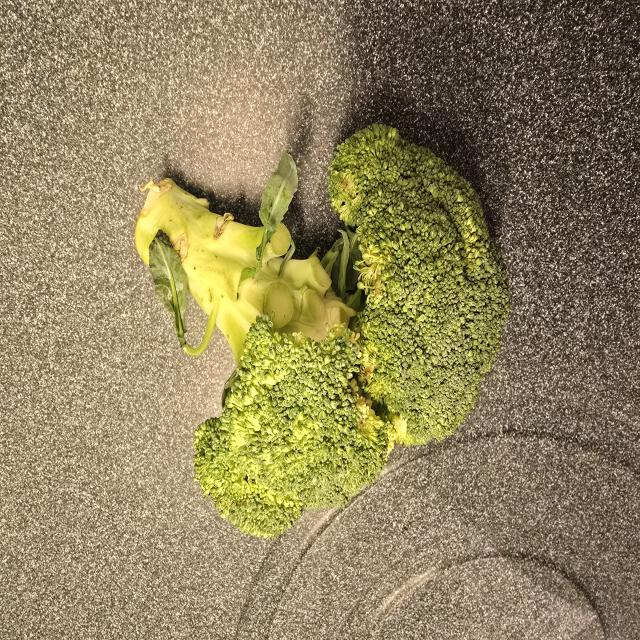Broccoli: (126, 118, 517, 554)
